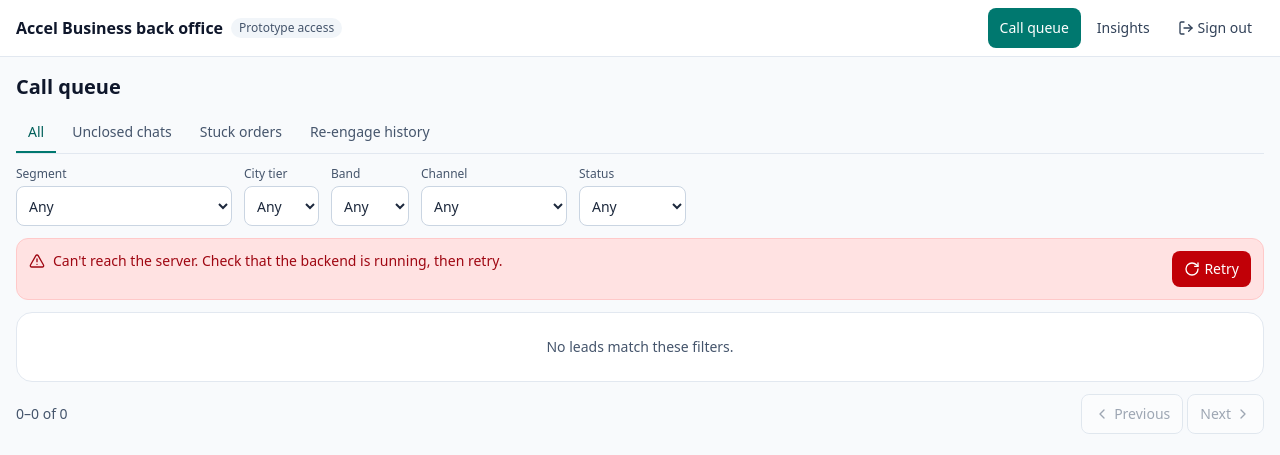
Test: queue › offers a retry when loading fails
The image size is (1280, 455).
Expected: the message shows "Can't reach the server", [53,251,502,270]
Click the button "Retry".
click(1212, 269)  # box [1172,251,1251,287]
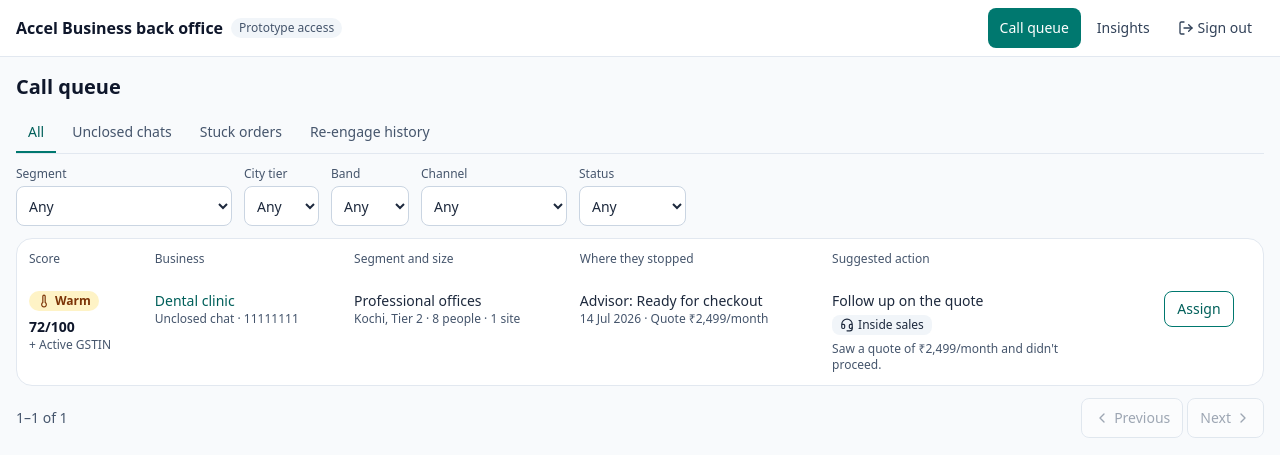
Expected: the link "Dental clinic" is shown, [155,291,235,310]
